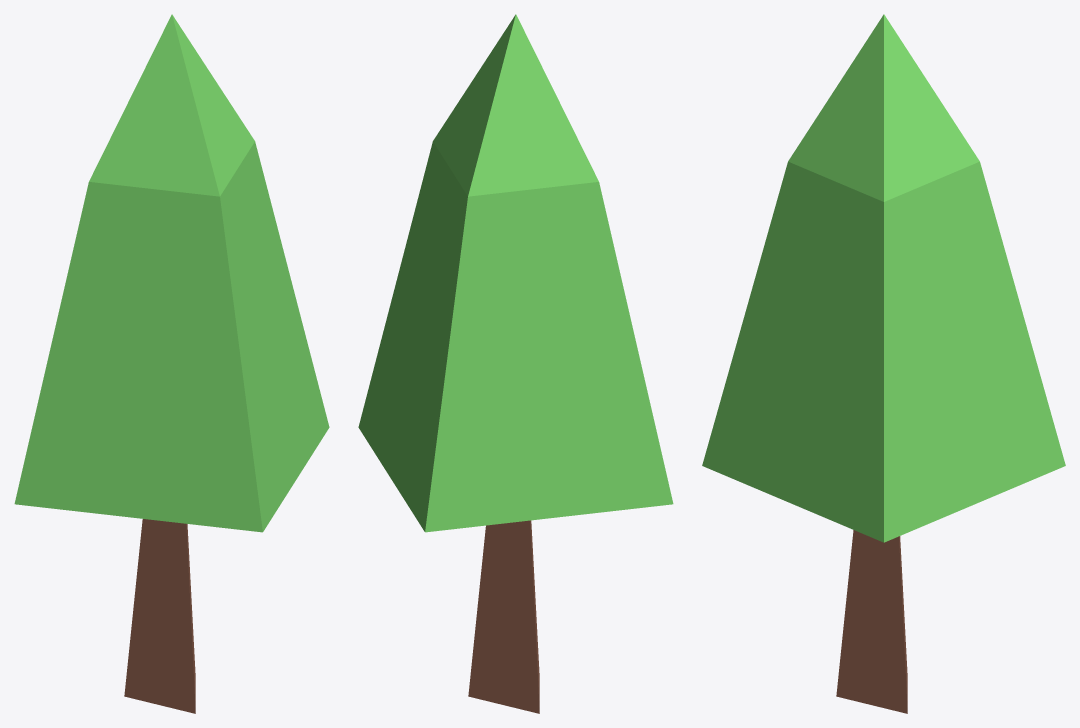
Rendered from AspenObj.fbx.
3 renders of one model, left to right at view 1: azimuth 30°, elevation 25°; view 2: azimuth 150°, elevation 25°; view 3: azimuth 270°, elevation 25°, orthographic.
Parts seen in each view (by area): view 1: Aspen; view 2: Aspen; view 3: Aspen.
Boxes of the visible parts, x1,y1,x2,y2 form: Aspen: (14, 14, 329, 713); Aspen: (358, 14, 673, 713); Aspen: (702, 14, 1065, 713).
Size of the model in its own units: 444 by 919 by 444.
